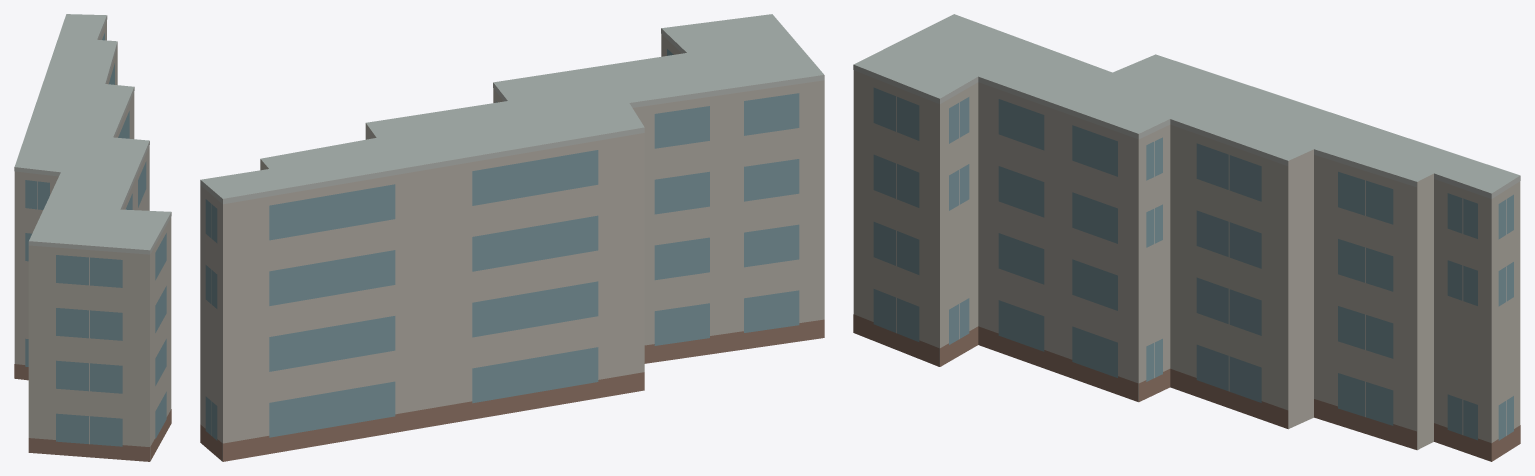
The model's file is survey-upis-32494022.glb.
3 renders of one model, left to right at view 1: azimuth 30°, elevation 25°; view 2: azimuth 150°, elevation 25°; view 3: azimuth 270°, elevation 25°, orthographic. The views are drawn at different scales.
Visible parts, largest first — view 1: survey-upis-32494022.tmp; view 2: survey-upis-32494022.tmp; view 3: survey-upis-32494022.tmp.
Boxes of the visible parts, box(x1,y1,x2,y2) form: survey-upis-32494022.tmp: box(14, 14, 171, 461); survey-upis-32494022.tmp: box(200, 14, 824, 461); survey-upis-32494022.tmp: box(853, 14, 1520, 461).
Bounding box in the file's own units: 16.94 × 11.8 × 26.59.
